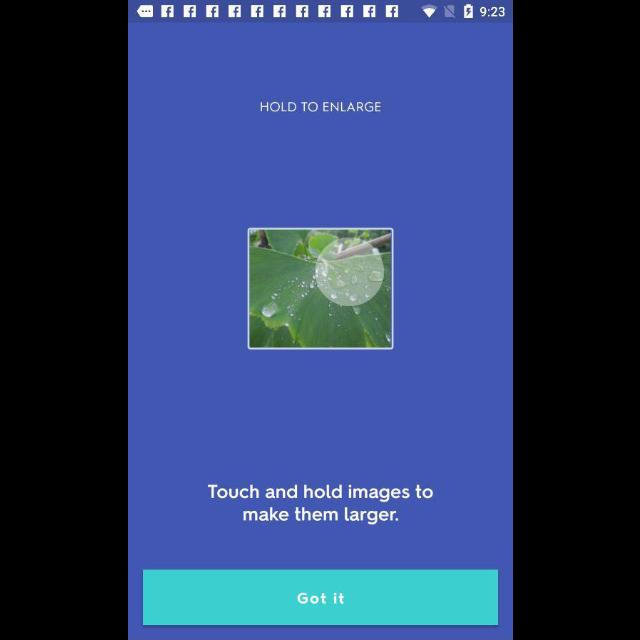image: (246, 228, 394, 350)
text: (207, 483, 433, 525), (259, 101, 381, 113)
textbutton: (142, 568, 498, 626)
uppertaskbar: (128, 1, 512, 23)
